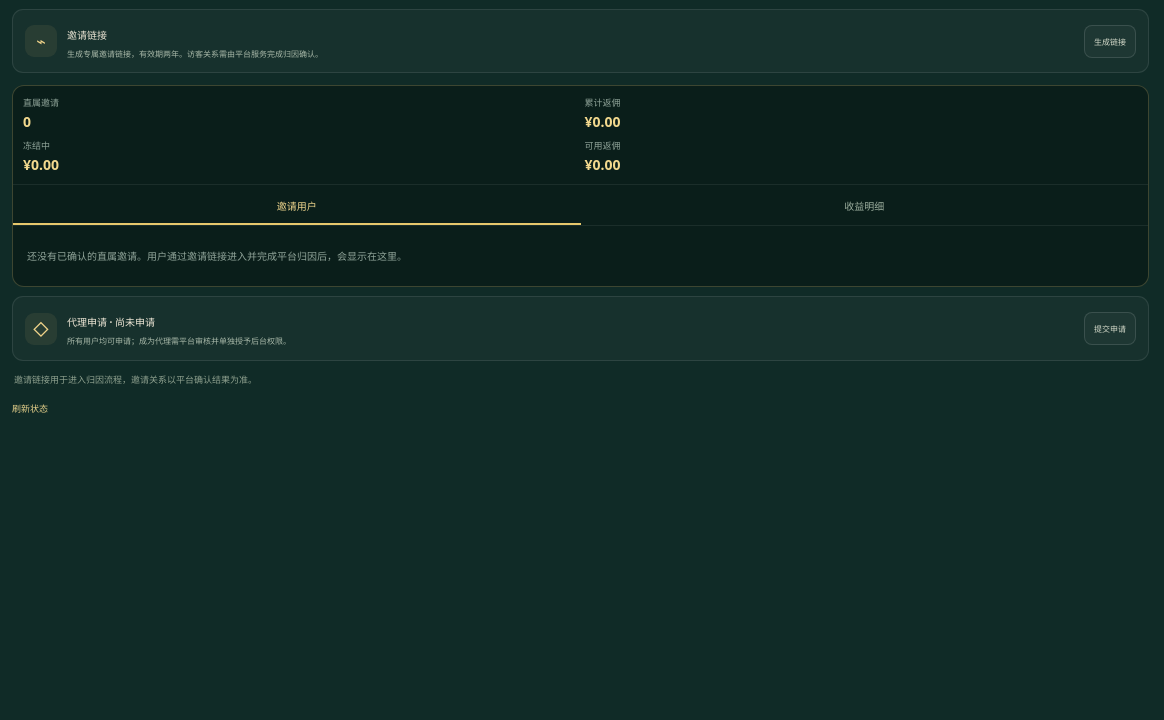
Test: player invitation and agent application workspace › issues a two-year link and completes pending application, withdrawal, and resubmission
This screenshot has width=1164, height=720.
Click the button "生成链接" at (1110, 41), box [1084, 25, 1136, 58]
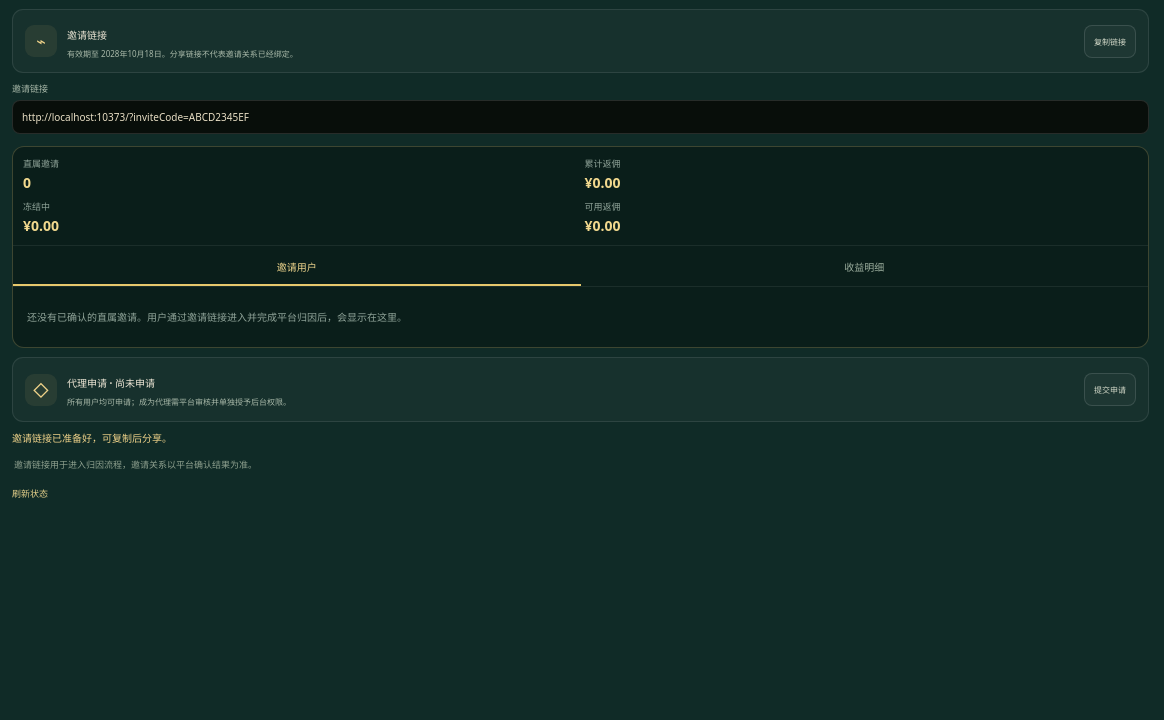
Now the field labelled "邀请链接" holds "http://localhost:10373/?inviteCode=ABCD2345EF", box [12, 100, 1149, 134]
Click the button "提交申请" at (1110, 390), box [1084, 373, 1136, 406]
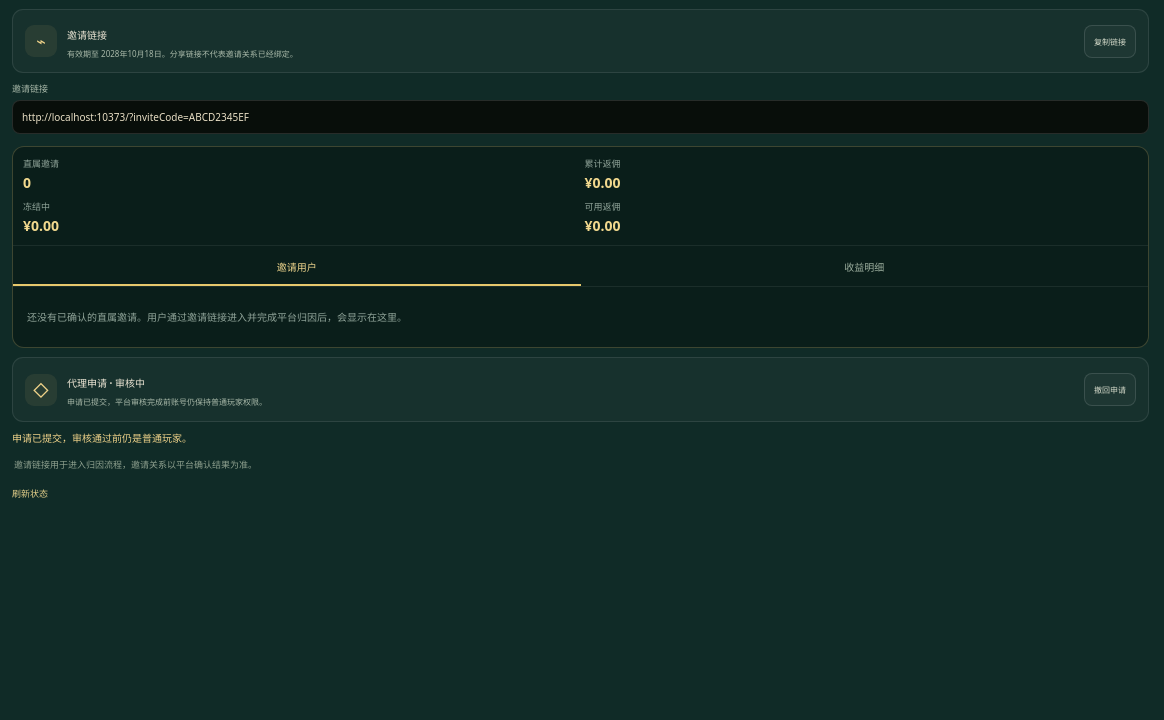
Now the text "申请已提交，平台审核完成前账号仍保持普通玩家权限。" is shown, box [67, 396, 267, 407]
Click the button "撤回申请" at (1110, 390), box [1084, 373, 1136, 406]
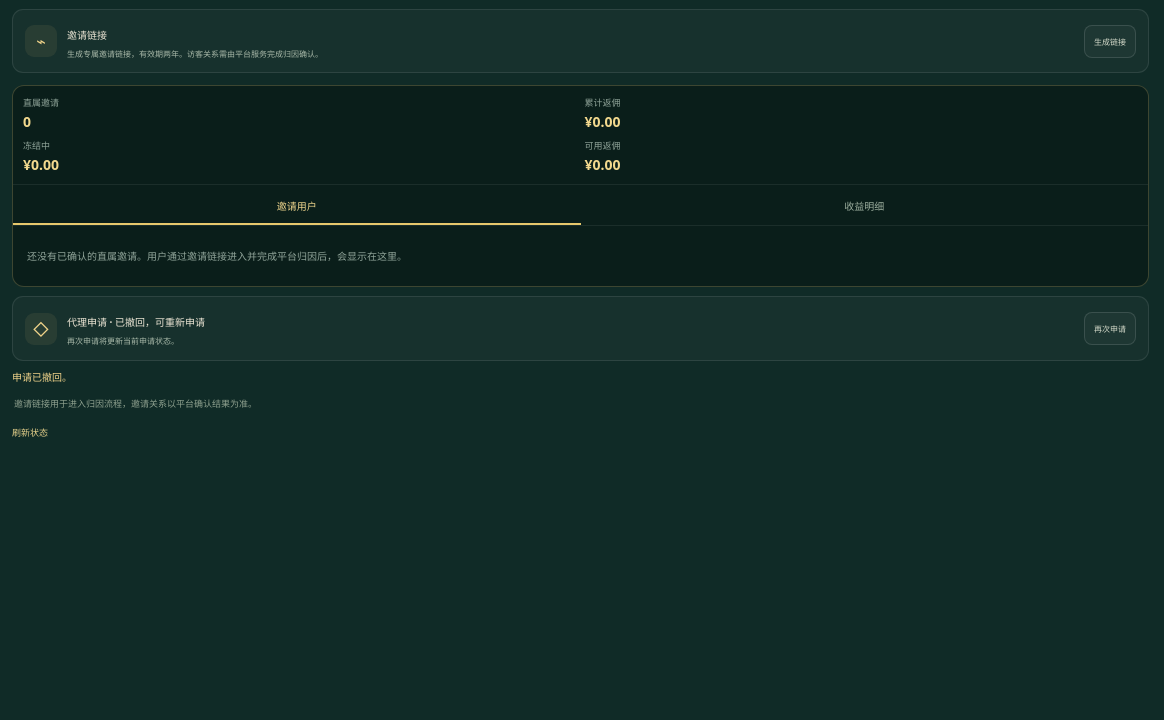
Click the button "再次申请" at (1110, 329), box [1084, 312, 1136, 345]
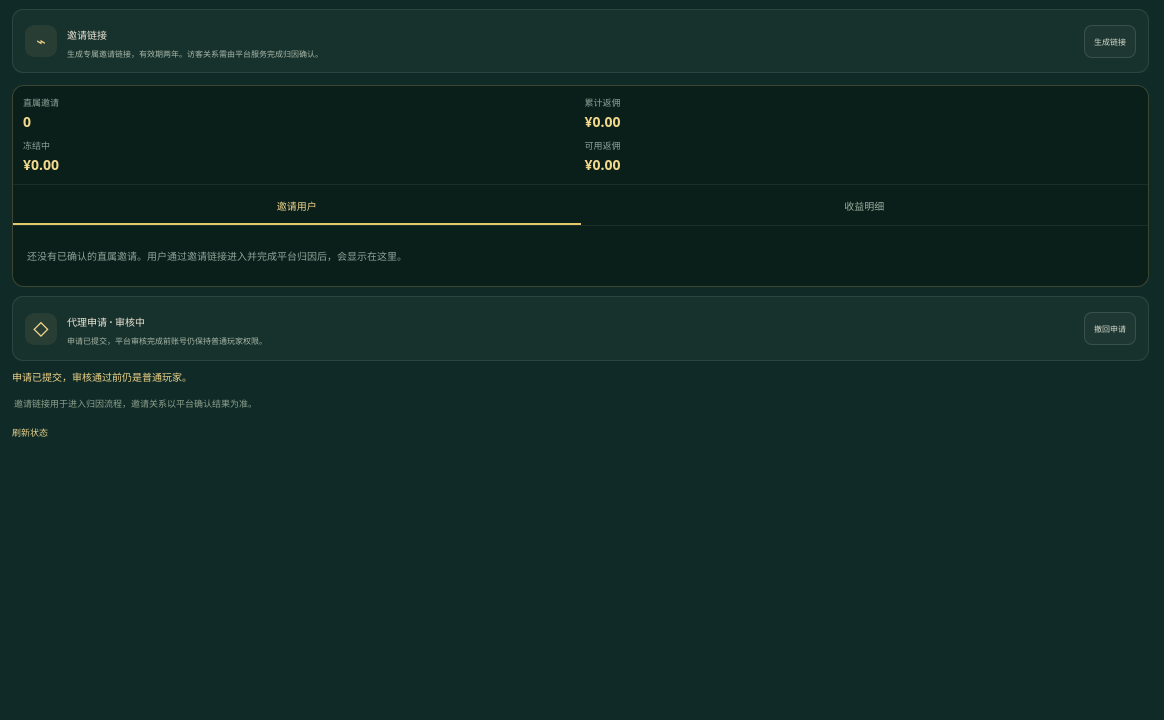
Now the text "平台审核完成前账号仍保持普通玩家权限。" is shown, box [67, 335, 267, 346]
